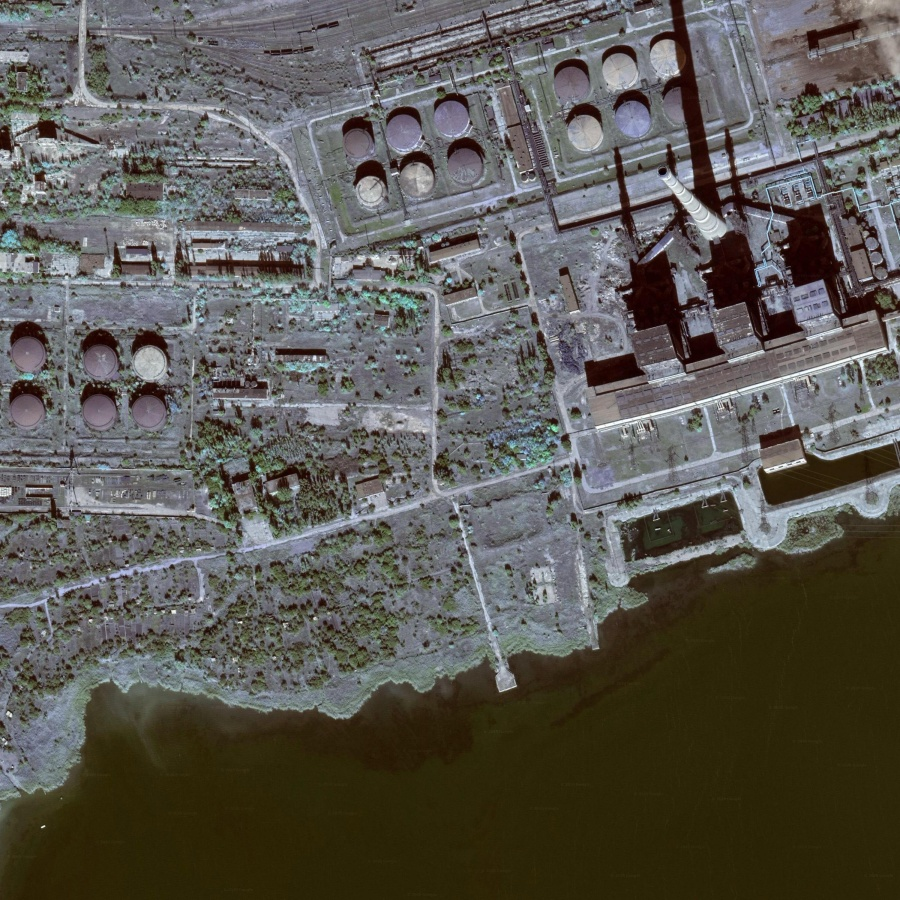PowerPlant: (304, 70, 512, 246)
